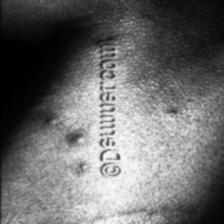Toxin: (69, 133, 85, 147), (44, 115, 55, 126), (78, 163, 88, 172), (167, 110, 176, 116)
